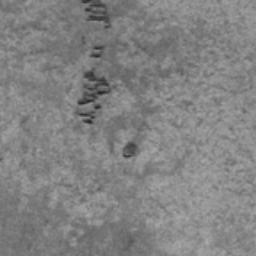Secondary rust skin: (79, 44, 110, 126), (82, 0, 112, 31), (123, 141, 139, 159)
